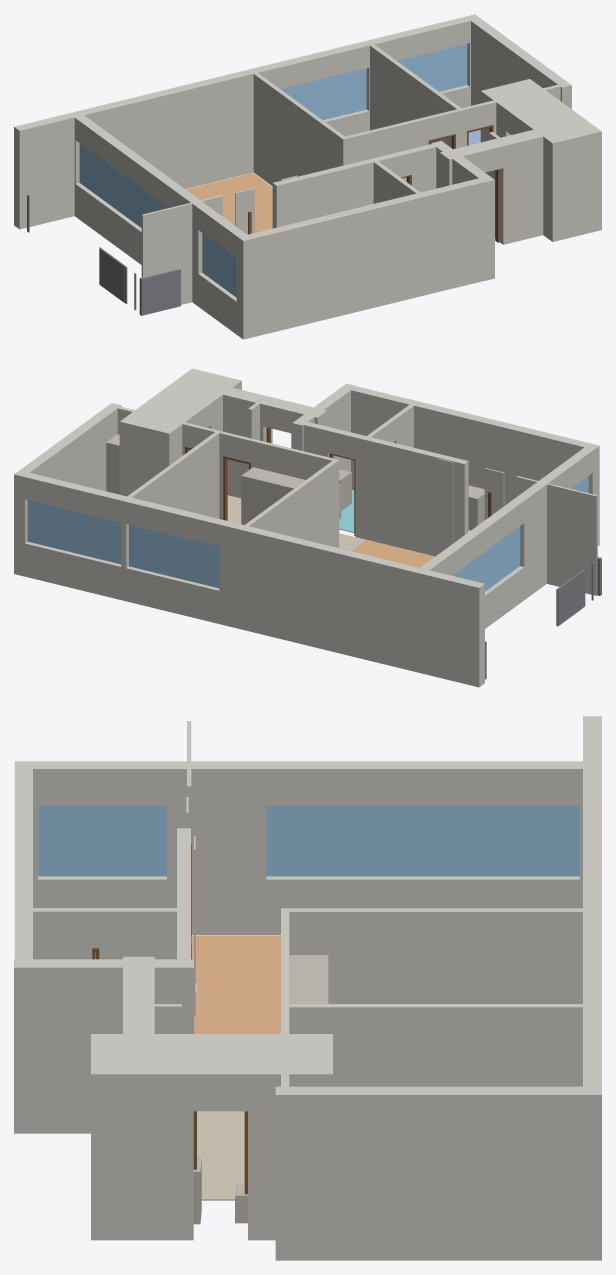
3 views of the same model, one above another, from view 1: azimuth 30°, elevation 25°; view 2: azimuth 150°, elevation 25°; view 3: azimuth 270°, elevation 25° (orthographic). The views are drawn at different scales.
Parts seen in each view (by area): view 1: walls, railings, window_2, window_4, floor_0_Living_Room, window_8, window_0; view 2: walls, window_8, window_4, furniture_0_closet, window_2, railings, floor_0_Living_Room, furniture_1_closet, floor_1_Entry, furniture_6_appliance, furniture_9_sink; view 3: walls, window_2, window_0, floor_0_Living_Room, floor_1_Entry, furniture_0_closet.
Boxes of the visible parts, <box> form: walls: <box>14,14,601,339</box>; railings: <box>27,194,180,315</box>; window_2: <box>79,143,167,227</box>; window_4: <box>280,68,366,119</box>; floor_0_Living_Room: <box>186,173,272,232</box>; window_8: <box>397,44,467,91</box>; window_0: <box>202,233,236,297</box>; walls: <box>14,368,599,687</box>; window_8: <box>27,500,121,564</box>; window_4: <box>129,524,219,588</box>; furniture_0_closet: <box>241,467,305,524</box>; window_2: <box>452,526,519,591</box>; railings: <box>485,557,601,679</box>; floor_0_Living_Room: <box>352,540,434,567</box>; furniture_1_closet: <box>106,434,119,494</box>; floor_1_Entry: <box>227,495,366,551</box>; furniture_6_appliance: <box>468,485,484,530</box>; furniture_9_sink: <box>339,469,351,510</box>; walls: <box>14,716,601,1260</box>; window_2: <box>266,806,579,876</box>; window_0: <box>38,806,166,876</box>; floor_0_Living_Room: <box>191,935,280,1033</box>; floor_1_Entry: <box>197,1111,244,1200</box>; furniture_0_closet: <box>289,955,328,1003</box>.
Size of the model in its own units: 13.21 by 2.72 by 8.67.
